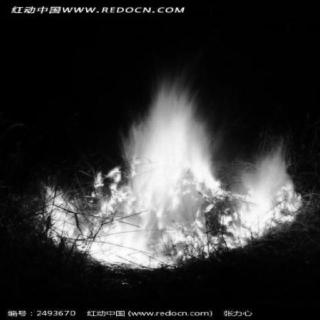Fire: (23, 64, 311, 278)
